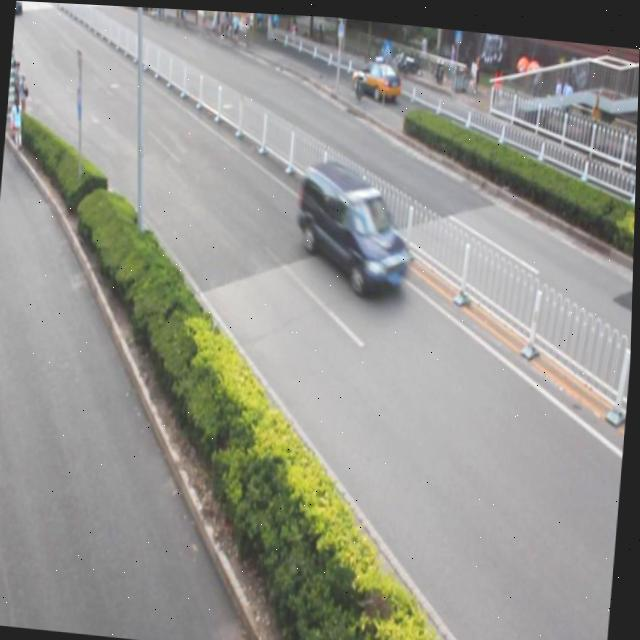car: (294, 156, 416, 294), (350, 50, 403, 100)
